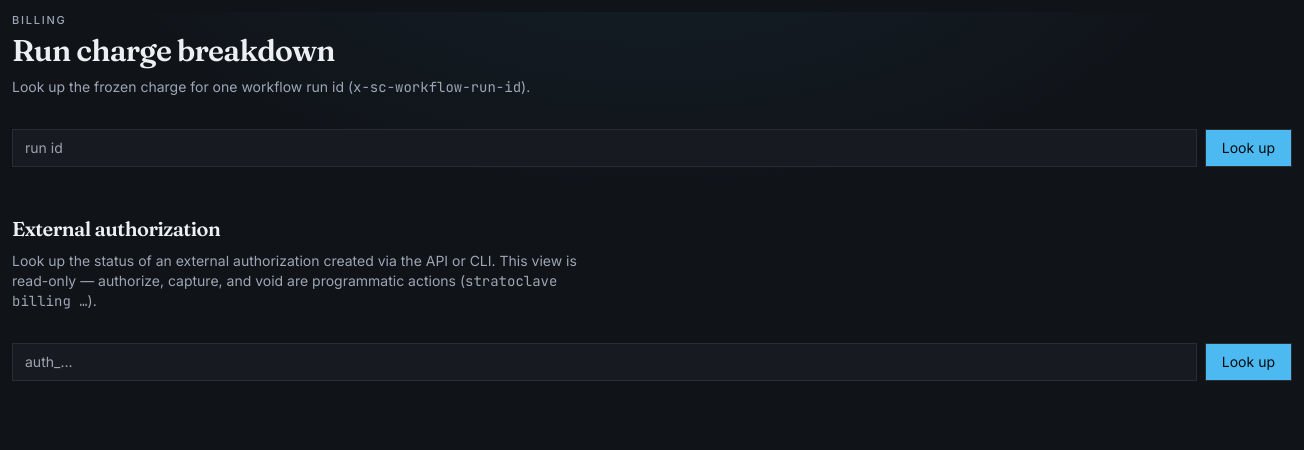
Test: MeBilling — run lookup error handling › renders the SAME billing-error message on a 503 (budget_unavailable-adjacent failure)
The width and height of the screenshot is (1304, 450).
In the field named "workflow run id": (604, 148) [12, 128, 1197, 166], type "run-y"
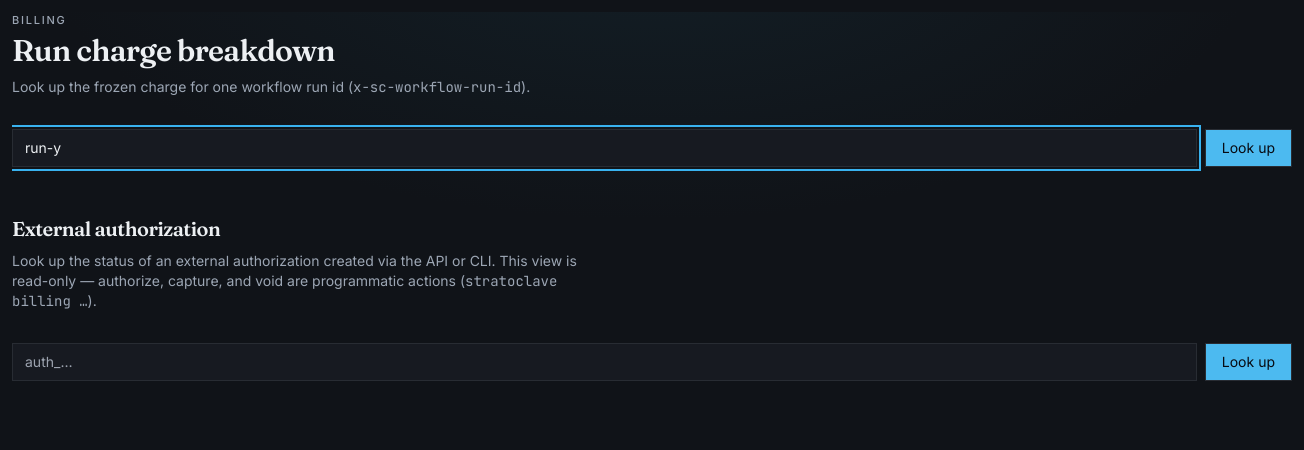
Click the 1st button "Look up": (1248, 148) [1205, 128, 1292, 166]
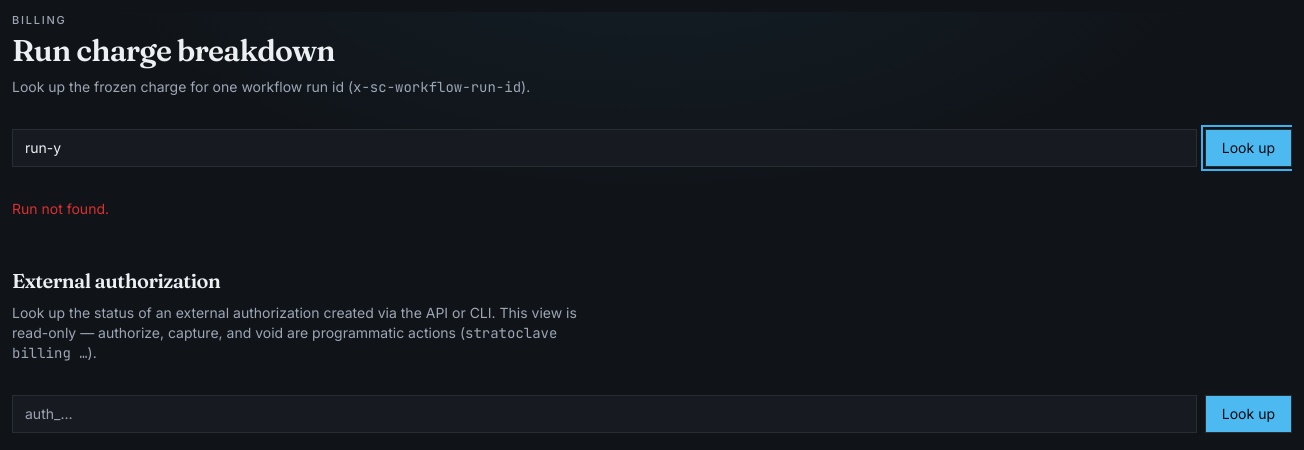
Result: the text with test id "billing-error" reads "Run not found." at [12, 200, 109, 216]
